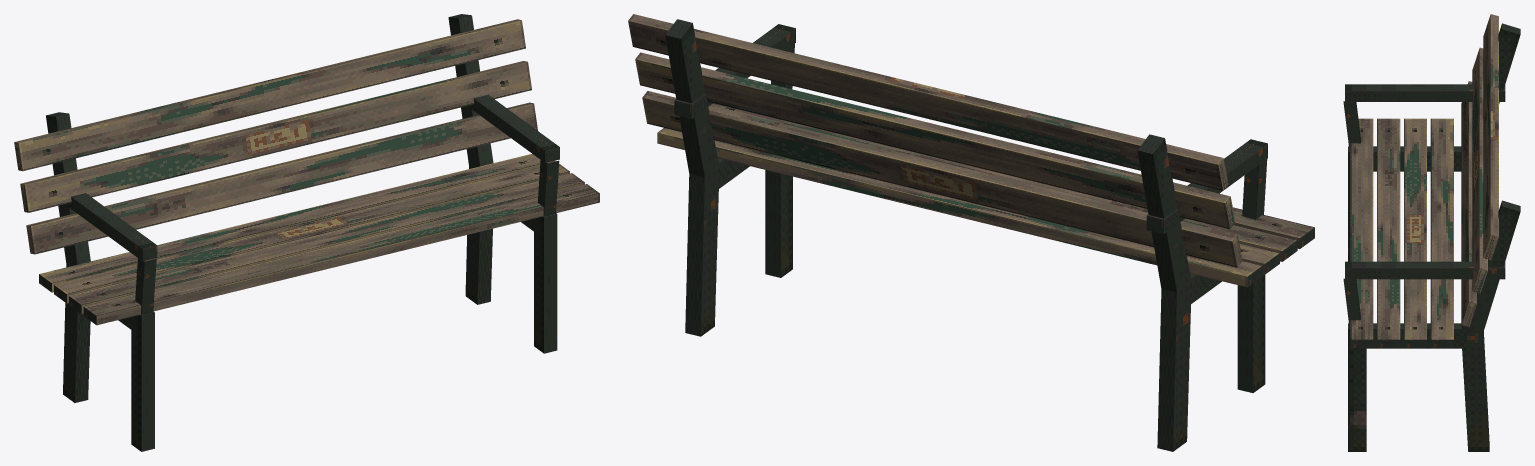
Rendered from bench_park.glb.
3 renders of one model, left to right at view 1: azimuth 30°, elevation 25°; view 2: azimuth 150°, elevation 25°; view 3: azimuth 270°, elevation 25°, orthographic. The views are drawn at different scales.
Parts seen in each view (by area): view 1: bench_park; view 2: bench_park; view 3: bench_park.
Part boxes in pixels (bbox=[...]): bench_park: bbox=[14, 14, 599, 451]; bench_park: bbox=[628, 14, 1314, 451]; bench_park: bbox=[1343, 14, 1520, 451].
Size of the model in its own units: 1.7 by 0.88 by 0.575.
Materials: 1 (1 with a texture image).
